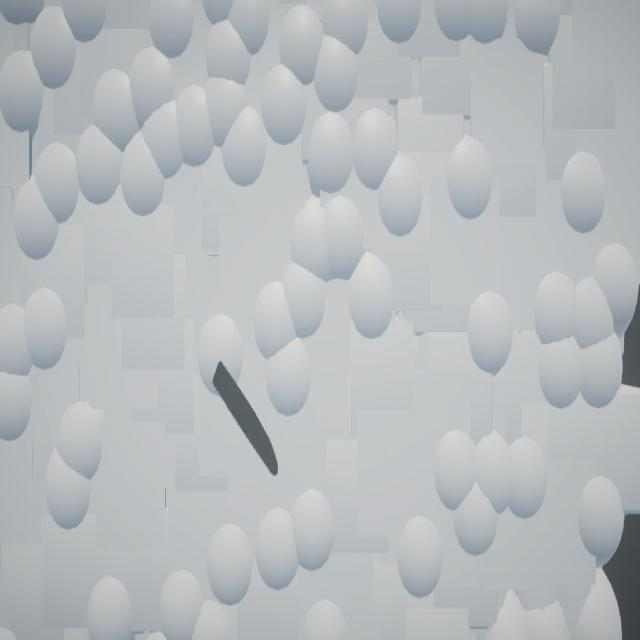top_knife: (213, 361, 279, 477)
